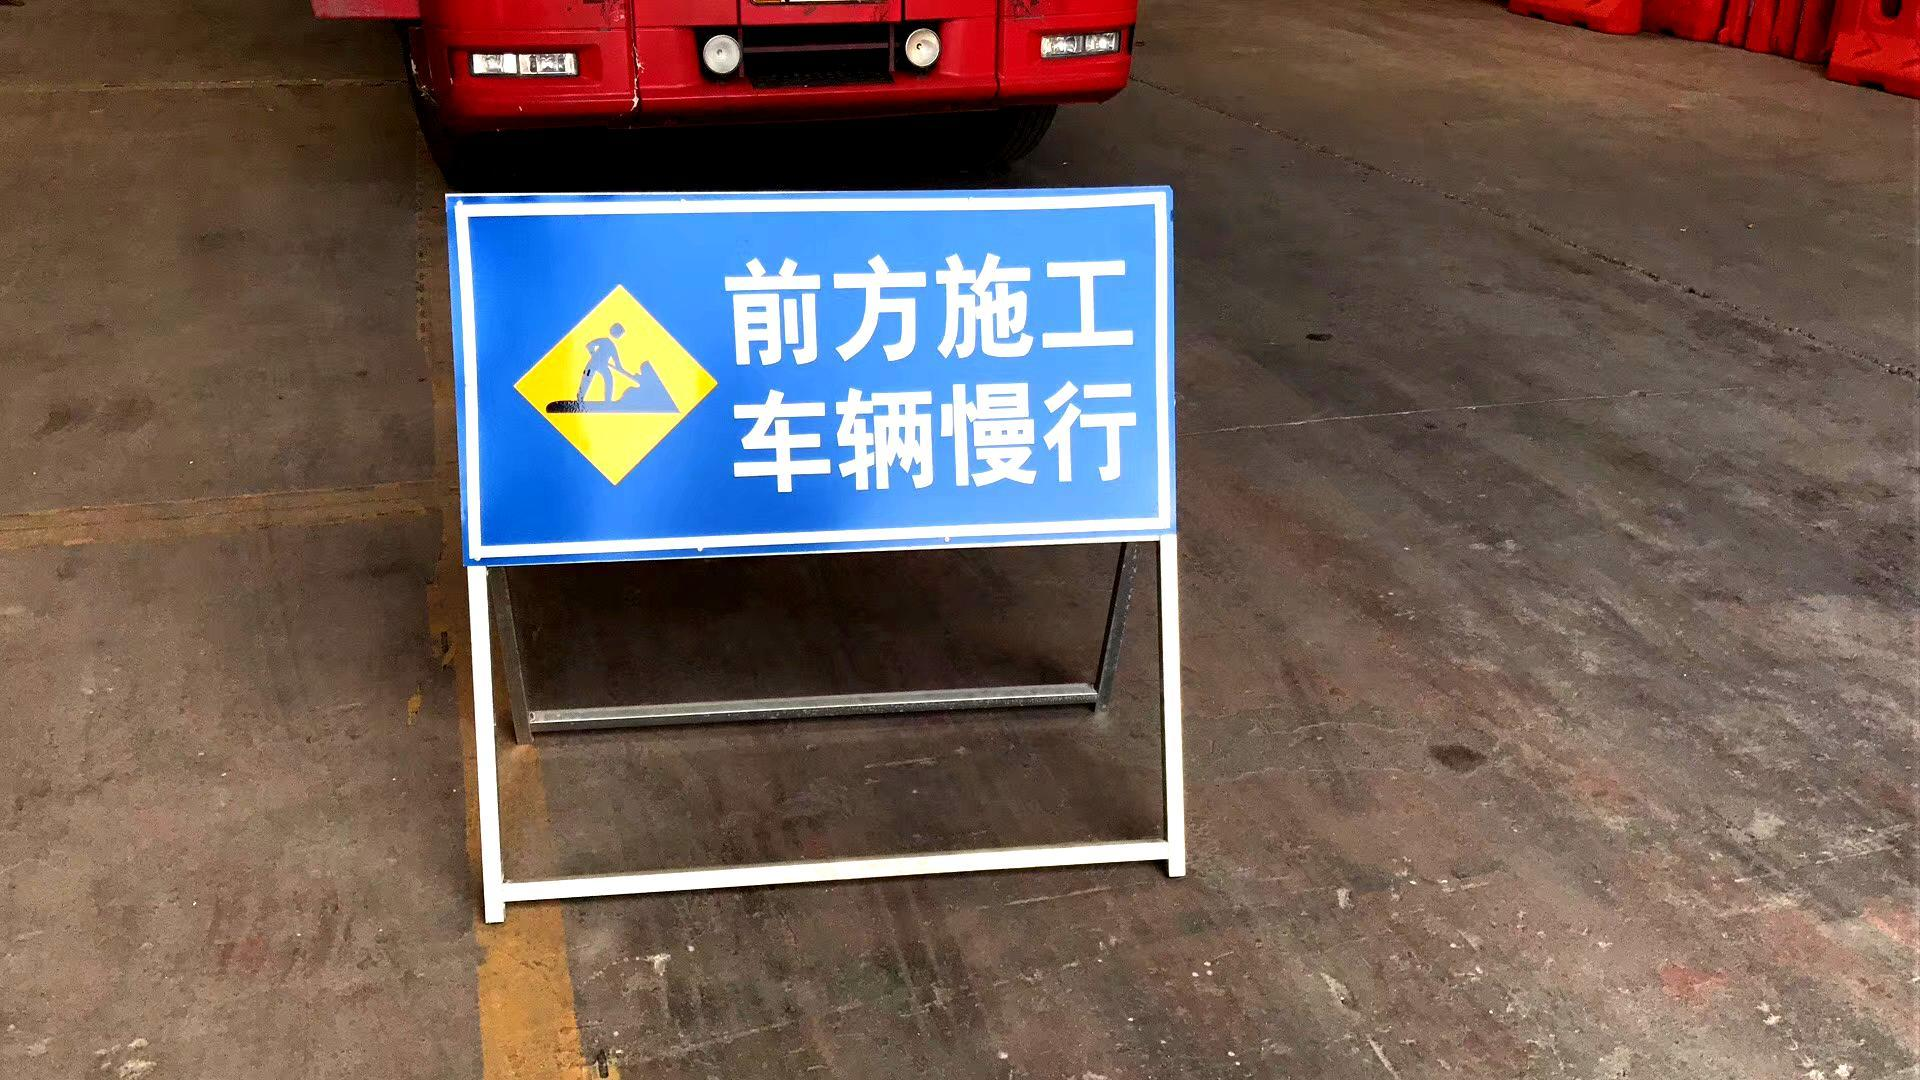sign: (448, 189, 1174, 562)
